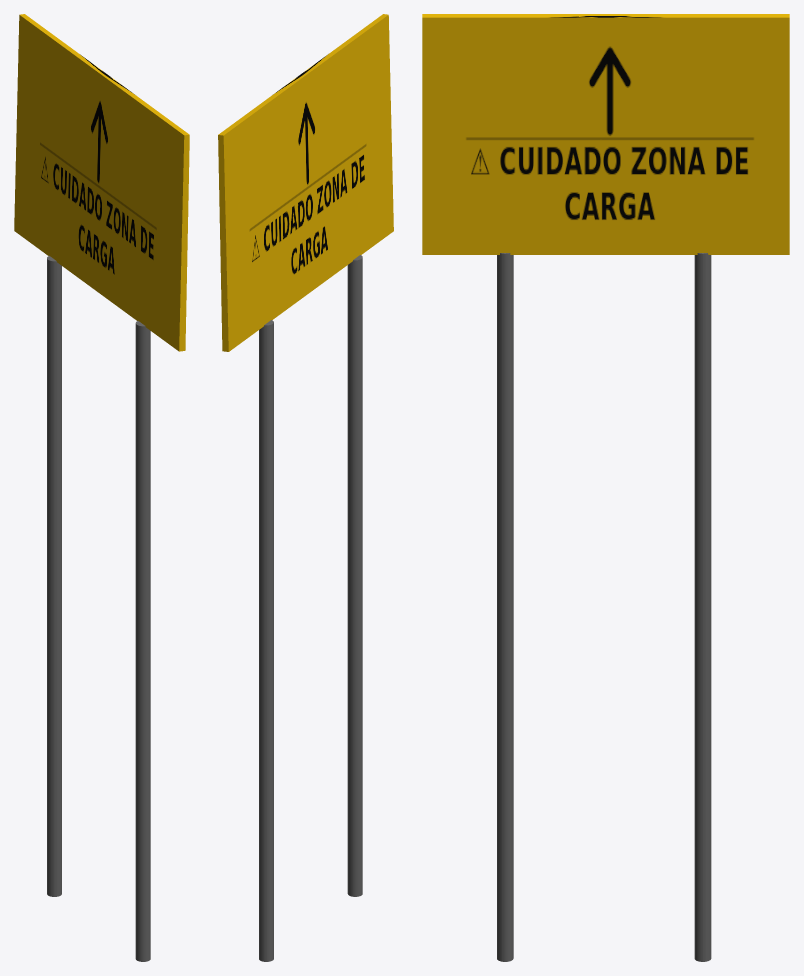
Rendered from LetreroZCarga.fbx.
3 renders of one model, left to right at view 1: azimuth 30°, elevation 25°; view 2: azimuth 150°, elevation 25°; view 3: azimuth 270°, elevation 25°, orthographic. The views are drawn at different scales.
Parts seen in each view (by area): view 1: Cube, Cylinder, Cylinder.001; view 2: Cube, Cylinder, Cylinder.001; view 3: Cube, Cylinder.001, Cylinder.
Part boxes in pixels (left/top/right/bottom): Cube: left=14, top=14, right=189, bottom=351; Cylinder: left=135, top=321, right=150, bottom=961; Cylinder.001: left=47, top=256, right=61, bottom=896; Cube: left=218, top=14, right=393, bottom=351; Cylinder: left=347, top=255, right=362, bottom=896; Cylinder.001: left=259, top=320, right=273, bottom=961; Cube: left=422, top=14, right=789, bottom=254; Cylinder.001: left=694, top=253, right=711, bottom=961; Cylinder: left=497, top=253, right=513, bottom=961.
Size of the model in its own units: 32.28 by 1654 by 582.
Materials: 2 (1 with a texture image).
